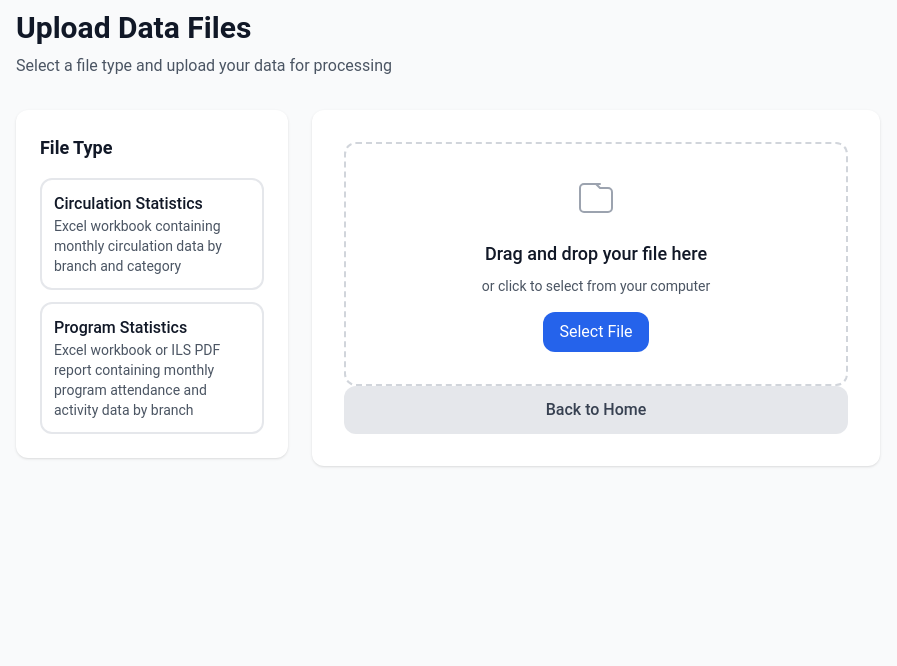
Upload Component › shows file type help text when a type is selected
Click the text "Circulation Statistics".
click(128, 204)  # box [54,194,203,213]
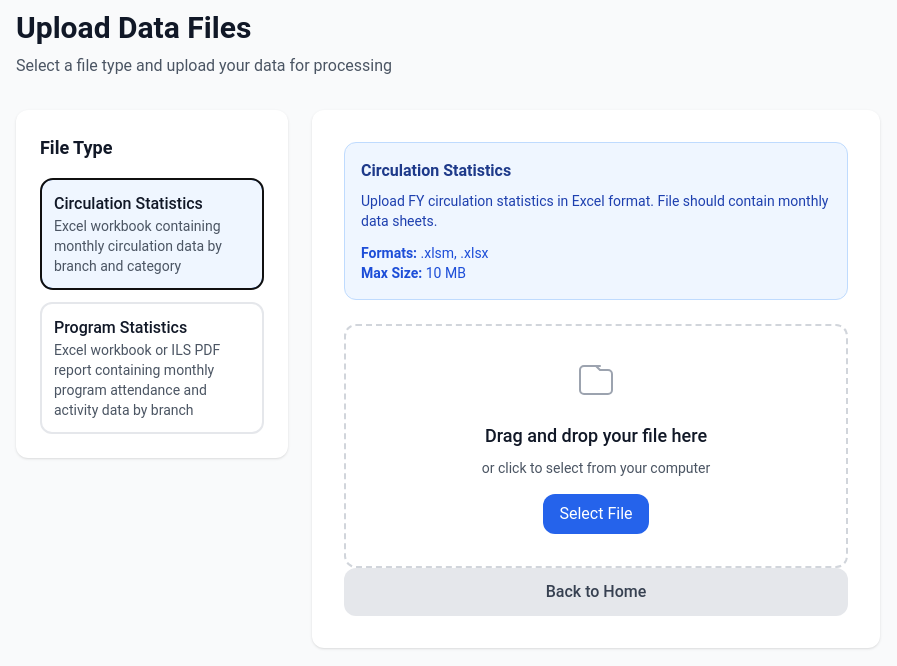
expect the text "Upload FY circulation statistics" is shown: met, box [361,193,828,229]
